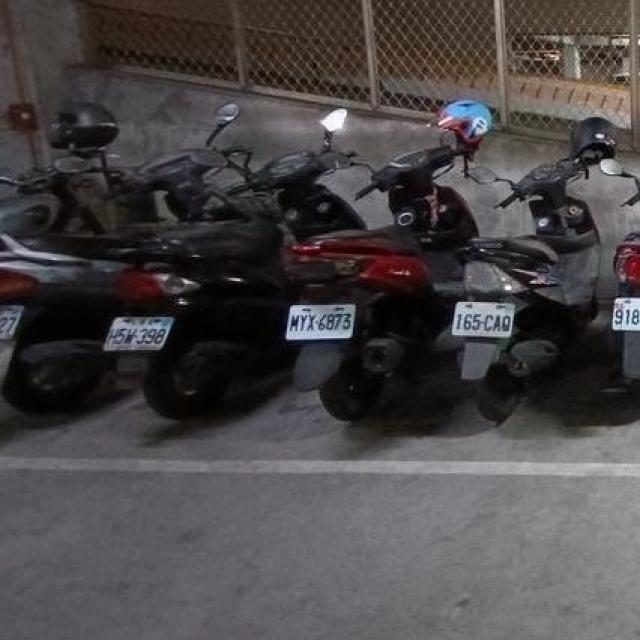W: (100, 304, 176, 359), (282, 293, 360, 345), (449, 292, 518, 342), (608, 287, 640, 336)
